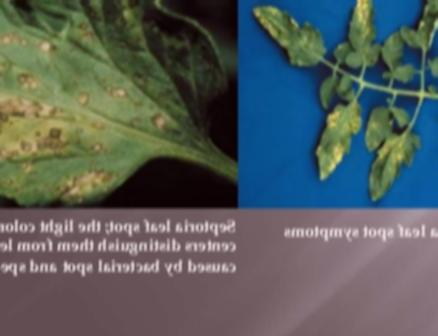Tomato Septoria leaf spot: (0, 0, 224, 203), (251, 0, 329, 77), (347, 127, 423, 201), (312, 95, 370, 178), (341, 0, 385, 76)
